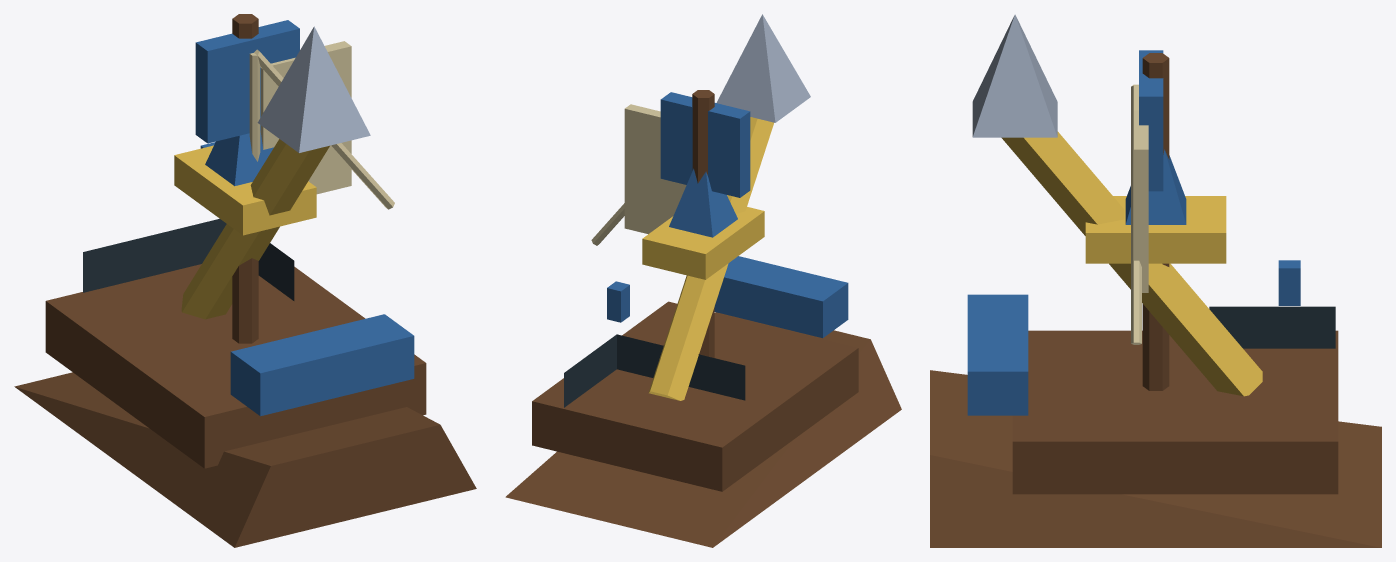
File: naval-siege-ship.obj
3 views of the same model, side by side, from view 1: azimuth 30°, elevation 25°; view 2: azimuth 150°, elevation 25°; view 3: azimuth 270°, elevation 25° (orthographic). The views are drawn at different scales.
Visible parts, largest first — view 1: ship; view 2: ship; view 3: ship.
Part boxes in pixels (<box>): ship: <box>14,14,476,547</box>; ship: <box>505,14,901,547</box>; ship: <box>930,14,1381,547</box>.
Size of the model in its own units: 1.27 by 2.15 by 1.86.
